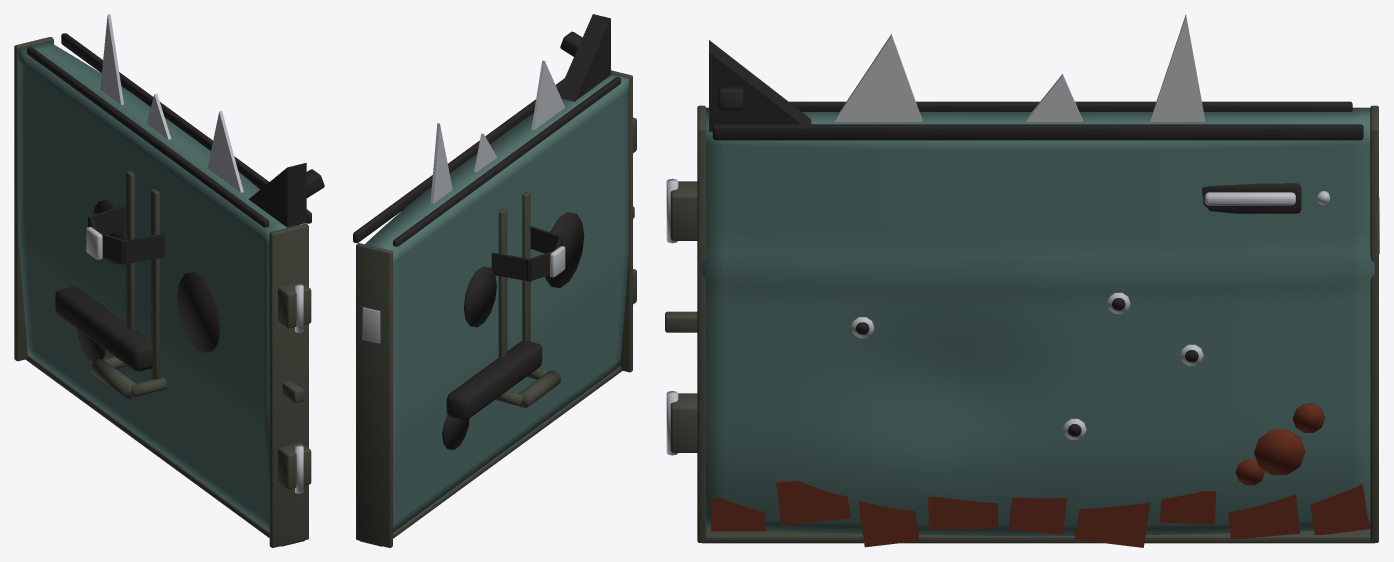
File: item_car_door.glb
3 views of the same model, side by side, from view 1: azimuth 30°, elevation 25°; view 2: azimuth 150°, elevation 25°; view 3: azimuth 270°, elevation 25° (orthographic). The views are drawn at different scales.
Parts seen in each view (by area): view 1: door_skin, hem_front, armrest, belt_inner, panel_hole_0, sail, hem_rear, belt_outer, hem_bottom, rail_0, glass_0, rail_1 (+14 smaller); view 2: door_skin, hem_rear, armrest, sail, belt_inner, belt_outer, hem_front, hem_bottom, panel_hole_0, panel_hole_1, rail_1, glass_0 (+11 smaller); view 3: door_skin, belt_outer, hem_bottom, belt_inner, sail, glass_0, hem_front, hem_rear, glass_2, seam_rust_5, seam_rust_1, seam_rust_7 (+12 smaller).
Part boxes in pixels (box(x1,y1,x2,y2)): door_skin: box(18, 41, 298, 531); hem_front: box(269, 223, 308, 547); armrest: box(55, 287, 152, 371); belt_inner: box(27, 47, 269, 227); panel_hole_0: box(177, 272, 220, 352); sail: box(248, 163, 306, 227); hem_rear: box(14, 37, 53, 361); belt_outer: box(61, 33, 311, 223); hem_bottom: box(25, 355, 304, 546); rail_0: box(151, 189, 159, 379); glass_0: box(207, 111, 243, 192); rail_1: box(126, 171, 134, 329); door_skin: box(365, 74, 628, 532); hem_rear: box(356, 243, 392, 547); armrest: box(446, 341, 542, 419); sail: box(558, 14, 610, 101); belt_inner: box(393, 77, 620, 246); belt_outer: box(353, 78, 564, 243); hem_front: box(611, 70, 632, 372); hem_bottom: box(360, 366, 622, 546); panel_hole_0: box(545, 212, 584, 287); panel_hole_1: box(464, 266, 496, 327); rail_1: box(498, 208, 507, 357); glass_0: box(531, 60, 565, 130); door_skin: box(701, 107, 1374, 536); belt_outer: box(712, 124, 1363, 140); hem_bottom: box(702, 528, 1374, 543); belt_inner: box(789, 101, 1352, 111); sail: box(709, 40, 811, 131); glass_0: box(834, 34, 922, 121); hem_front: box(697, 105, 705, 542); hem_rear: box(1370, 105, 1378, 542); glass_2: box(1150, 14, 1205, 121); seam_rust_5: box(1075, 502, 1150, 547); seam_rust_1: box(776, 480, 850, 525); seam_rust_7: box(1228, 494, 1299, 539).
Bounding box in the file's own units: 0.2348 × 0.7873 × 0.977.
